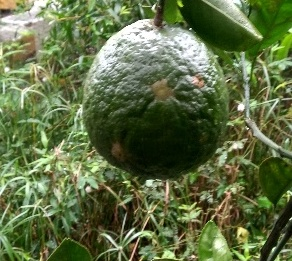Cam: (78, 16, 232, 181)
